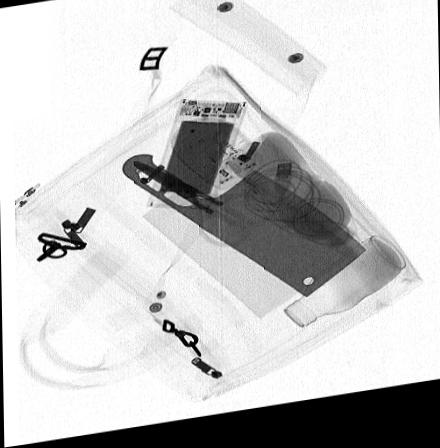Knife: (120, 158, 366, 306)
Powerbank: (143, 105, 249, 213)
Scissors: (129, 163, 274, 254)
